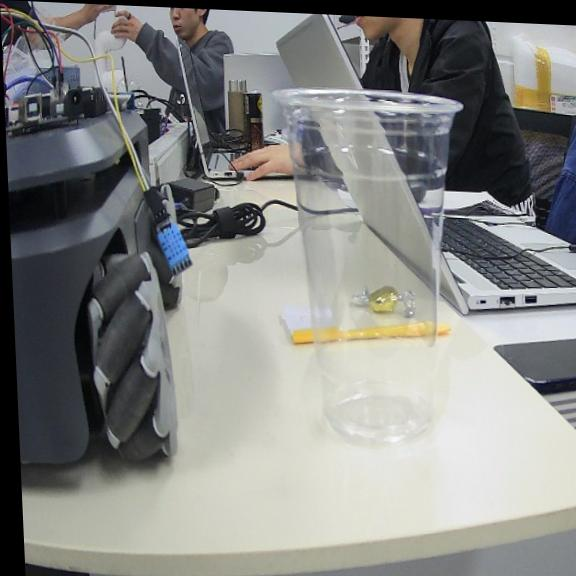Plastik: (278, 90, 462, 441)
